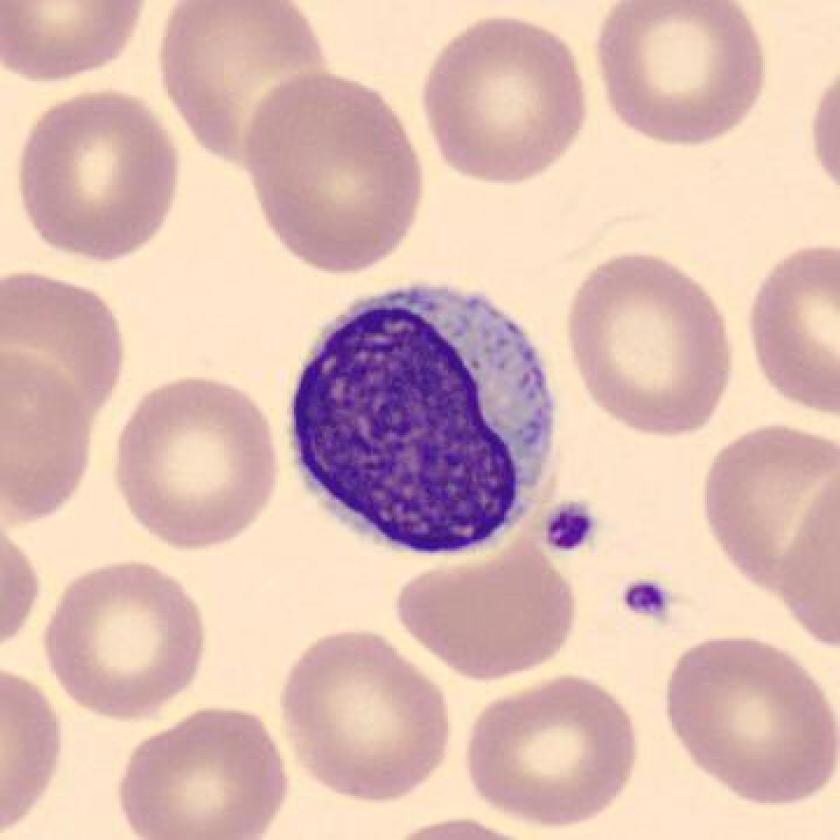lymphocyte: (276, 265, 566, 577)
